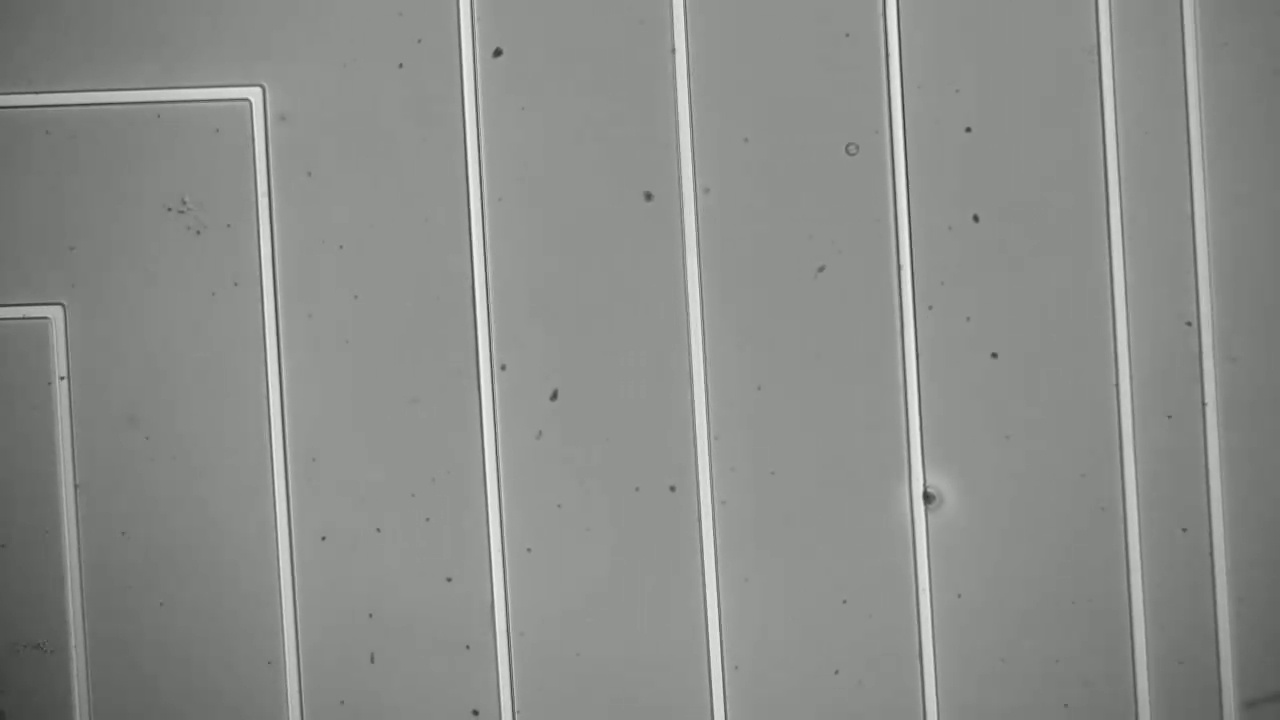stains_enbedded: (903, 481, 945, 521)
